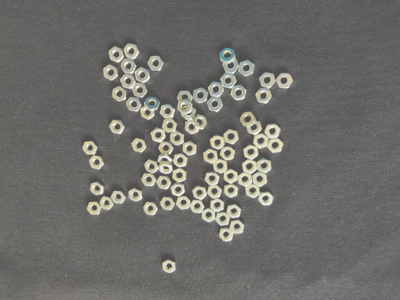nut: (259, 72, 276, 89), (275, 73, 293, 89), (239, 111, 257, 127), (124, 43, 140, 60), (121, 58, 138, 74), (239, 60, 255, 77), (230, 85, 247, 101), (208, 81, 225, 97), (207, 96, 223, 113), (109, 47, 125, 63), (220, 48, 236, 64), (256, 88, 272, 104), (193, 88, 209, 104), (265, 123, 281, 139), (253, 133, 269, 149), (223, 129, 239, 145), (220, 73, 237, 88), (148, 56, 164, 71), (104, 65, 119, 81), (120, 74, 136, 89), (135, 67, 150, 83), (112, 86, 127, 102), (177, 99, 193, 114), (193, 114, 208, 130), (247, 120, 263, 135), (268, 138, 284, 153), (89, 155, 105, 170), (151, 127, 166, 143), (210, 135, 226, 150), (220, 146, 236, 161), (244, 144, 259, 160), (243, 159, 258, 175), (257, 158, 272, 174), (156, 175, 172, 190), (82, 141, 99, 155), (133, 83, 148, 98), (127, 97, 142, 112), (145, 97, 160, 112), (160, 104, 175, 119), (185, 120, 200, 135), (213, 159, 228, 174), (253, 172, 268, 187), (238, 172, 253, 187), (224, 169, 239, 184), (173, 153, 188, 168), (159, 161, 174, 176), (205, 171, 220, 186), (171, 182, 186, 197), (224, 183, 239, 198), (227, 204, 242, 219), (230, 220, 245, 235), (223, 59, 239, 73), (177, 91, 193, 105), (181, 106, 197, 120), (162, 119, 178, 133), (170, 130, 184, 146), (258, 192, 274, 206), (173, 168, 187, 184), (141, 106, 156, 120), (110, 120, 125, 134), (183, 141, 197, 156), (132, 139, 147, 153), (204, 149, 218, 164), (246, 184, 261, 198), (90, 182, 105, 196), (129, 188, 143, 203), (143, 202, 158, 216), (160, 197, 175, 211), (176, 196, 191, 210), (193, 186, 208, 200), (208, 185, 223, 199), (190, 200, 205, 214), (210, 199, 225, 213), (202, 208, 216, 223), (215, 212, 230, 226), (219, 228, 234, 242), (158, 142, 174, 155), (111, 191, 127, 204), (145, 160, 159, 174), (162, 260, 176, 274), (87, 202, 102, 215), (157, 153, 173, 165), (100, 197, 114, 210), (142, 174, 157, 186)
